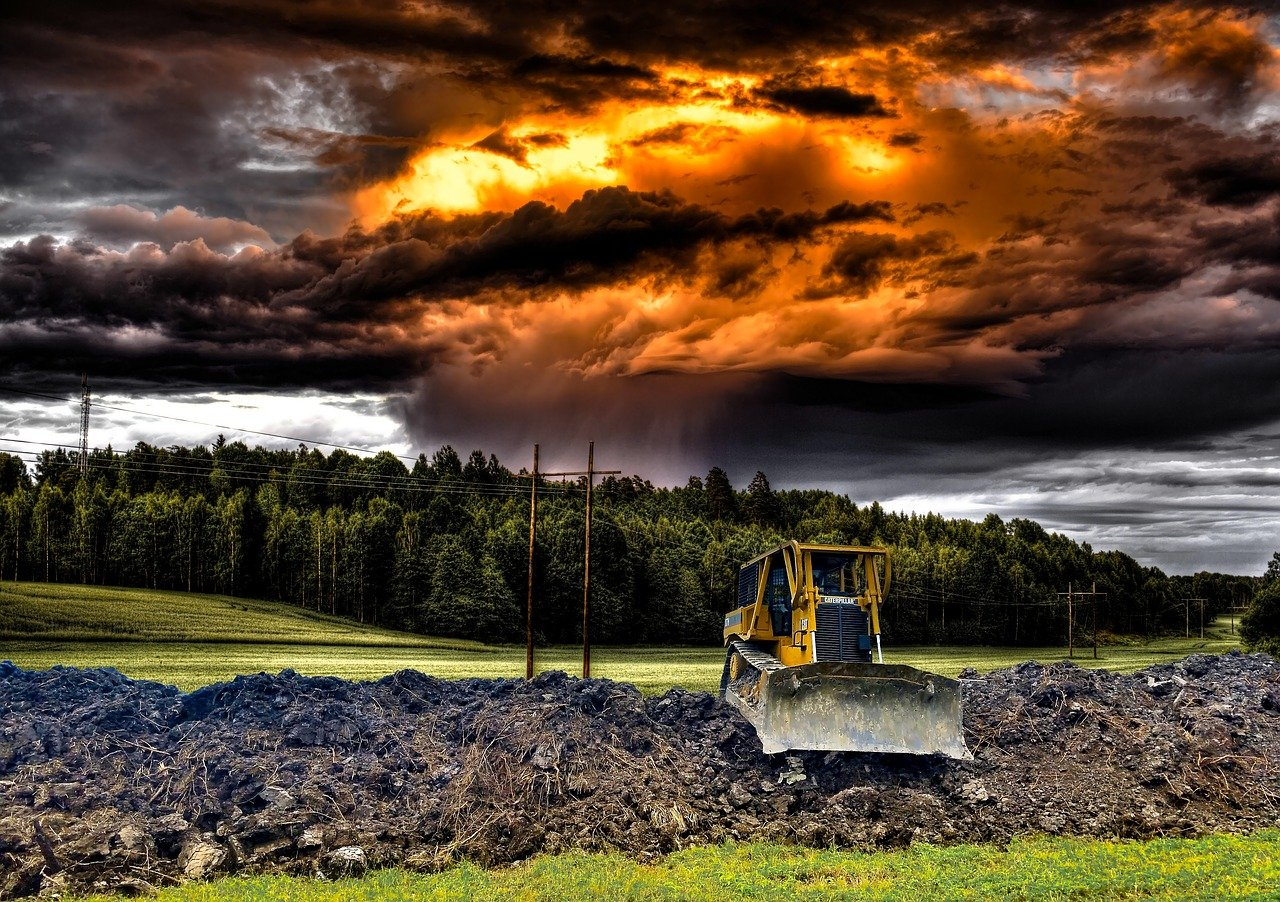bulldozer: (706, 532, 993, 772)
